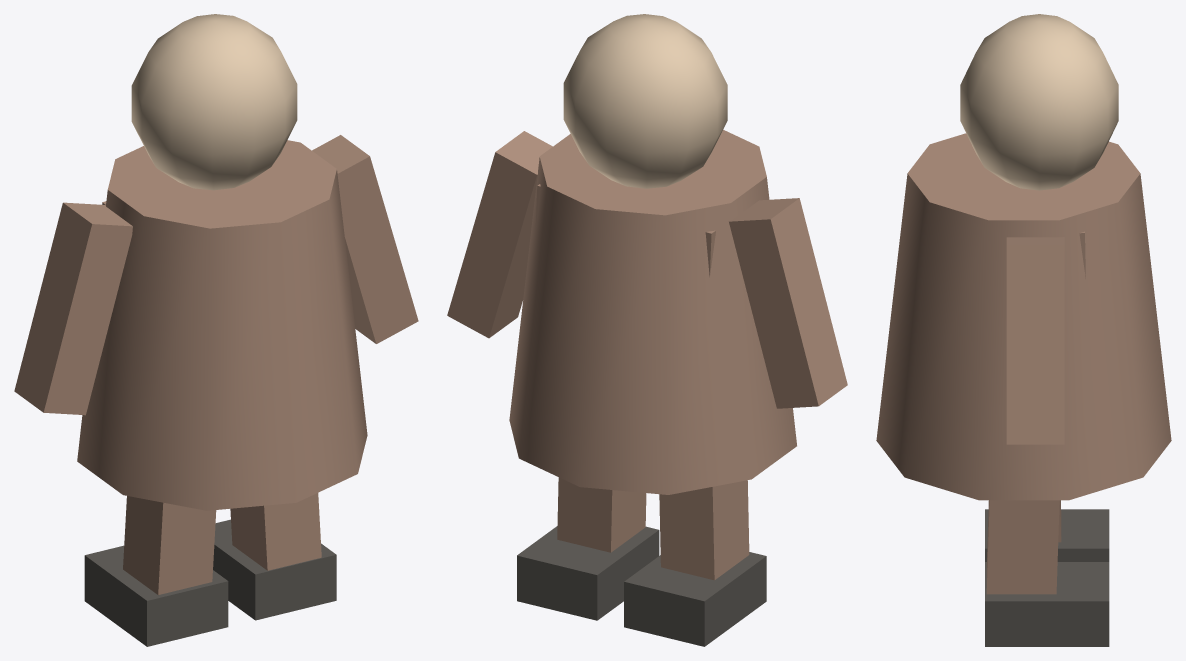
File: npc_raider.glb
3 views of the same model, side by side, from view 1: azimuth 30°, elevation 25°; view 2: azimuth 150°, elevation 25°; view 3: azimuth 270°, elevation 25° (orthographic).
Visible parts, largest first — view 1: torso, head, left_arm, right_arm, left_boot, left_leg, right_boot, right_leg; view 2: torso, head, left_arm, right_arm, left_boot, right_boot, left_leg, right_leg; view 3: torso, head, right_arm, right_boot, right_leg, left_boot.
Part boxes in pixels (box(x1,y1,x2,y2)): torso: box(77, 140, 367, 510); head: box(131, 14, 297, 190); left_arm: box(14, 202, 132, 415); right_arm: box(312, 135, 418, 343); left_boot: box(84, 545, 228, 646); left_leg: box(123, 496, 216, 594); right_boot: box(213, 519, 336, 620); right_leg: box(230, 493, 321, 570); torso: box(509, 129, 796, 494); head: box(563, 14, 727, 188); left_arm: box(729, 198, 847, 408); right_arm: box(447, 131, 552, 338); left_boot: box(624, 552, 766, 646); right_boot: box(517, 526, 659, 620); left_leg: box(659, 480, 749, 580); right_leg: box(557, 477, 646, 552); torso: box(876, 133, 1171, 500); head: box(960, 14, 1118, 190); right_arm: box(1006, 237, 1064, 444); right_boot: box(985, 562, 1109, 646); right_leg: box(986, 500, 1059, 594); left_boot: box(985, 509, 1109, 561).
Bounding box in the file's own units: 1.11 × 1.65 × 0.76.
